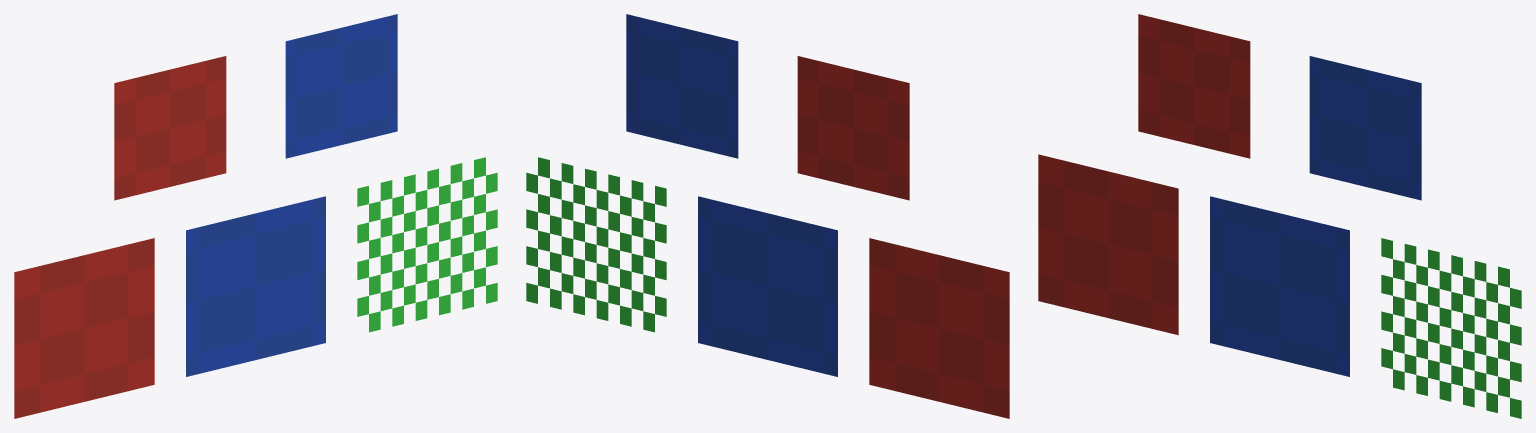
The model's file is spatial_scene.gltf.
3 views of the same model, side by side, from view 1: azimuth 30°, elevation 25°; view 2: azimuth 150°, elevation 25°; view 3: azimuth 330°, elevation 25° (orthographic).
Visible parts, largest first — view 1: red, blue, shared_blue, shared_red, mask; view 2: red, blue, shared_blue, shared_red, mask; view 3: red, blue, shared_red, shared_blue, mask.
Part boxes in pixels (bbox=[...]): red: bbox=[14, 238, 154, 418]; blue: bbox=[186, 196, 325, 376]; shared_blue: bbox=[285, 14, 397, 158]; shared_red: bbox=[114, 56, 226, 200]; mask: bbox=[357, 157, 497, 332]; red: bbox=[869, 238, 1009, 418]; blue: bbox=[698, 196, 837, 376]; shared_blue: bbox=[626, 14, 738, 158]; shared_red: bbox=[797, 56, 909, 200]; mask: bbox=[526, 157, 666, 332]; red: bbox=[1038, 154, 1178, 335]; blue: bbox=[1210, 196, 1349, 376]; shared_red: bbox=[1138, 14, 1250, 158]; shared_blue: bbox=[1309, 56, 1421, 200]; mask: bbox=[1381, 238, 1521, 418].
Size of the model in its own units: 3.1 by 1.91 by 0.
3 materials, 3 textured.
